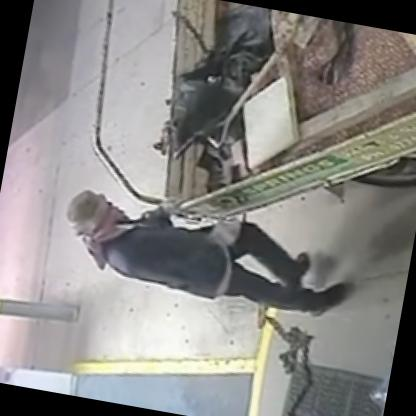Human Body: (49, 167, 365, 333)
